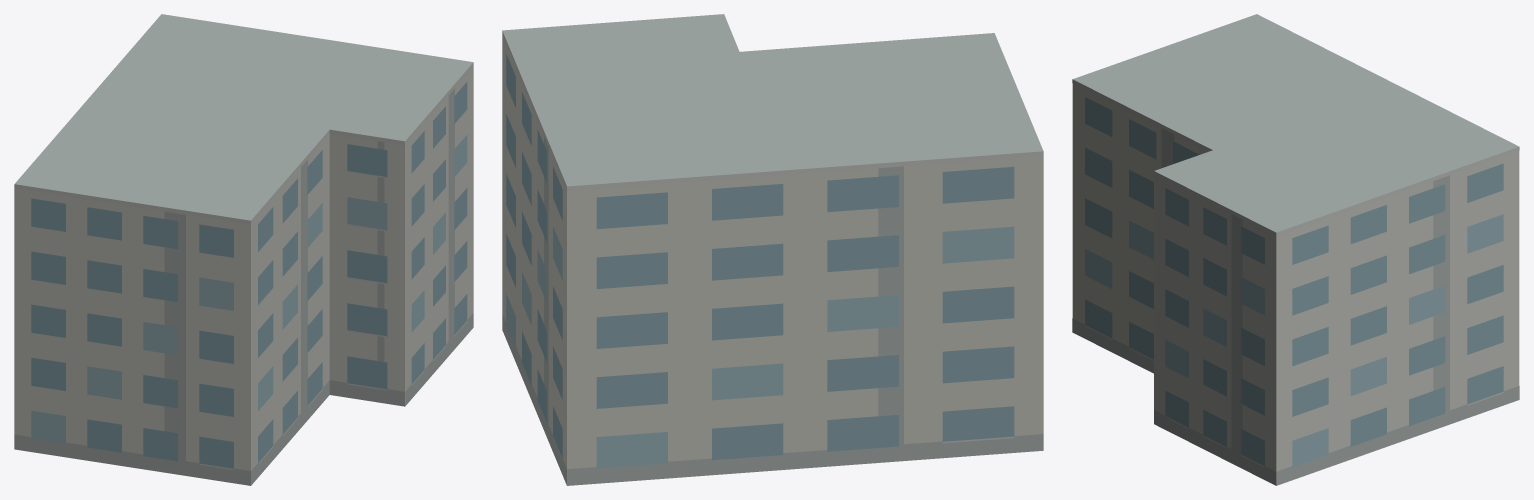
The model's file is residential-3e20842f-58ae-4148-b3a8-ebba9512ee4e.glb.
The picture shows the model from 3 angles, left to right: view 1: azimuth 30°, elevation 25°; view 2: azimuth 150°, elevation 25°; view 3: azimuth 270°, elevation 25°; orthographic projection. The views are drawn at different scales.
Visible parts, largest first — view 1: residential-3e20842f-58ae-4148-b3a8-ebba9512ee4e.tmp; view 2: residential-3e20842f-58ae-4148-b3a8-ebba9512ee4e.tmp; view 3: residential-3e20842f-58ae-4148-b3a8-ebba9512ee4e.tmp.
Boxes of the visible parts, x1=… form: residential-3e20842f-58ae-4148-b3a8-ebba9512ee4e.tmp: x1=14, y1=14, x2=473, y2=485; residential-3e20842f-58ae-4148-b3a8-ebba9512ee4e.tmp: x1=502, y1=14, x2=1043, y2=485; residential-3e20842f-58ae-4148-b3a8-ebba9512ee4e.tmp: x1=1072, y1=14, x2=1519, y2=485.
Size of the model in its own units: 28.25 by 15.25 by 24.4.
